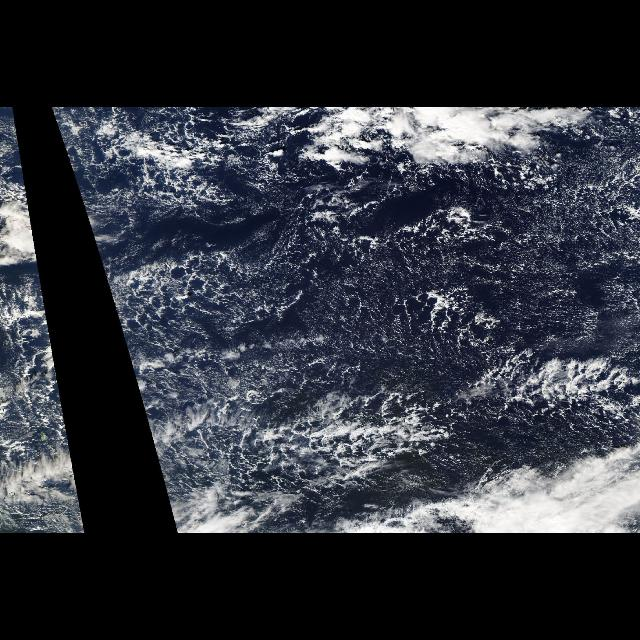Gravel: (89, 151, 639, 415)
Sugar: (516, 158, 638, 352)
